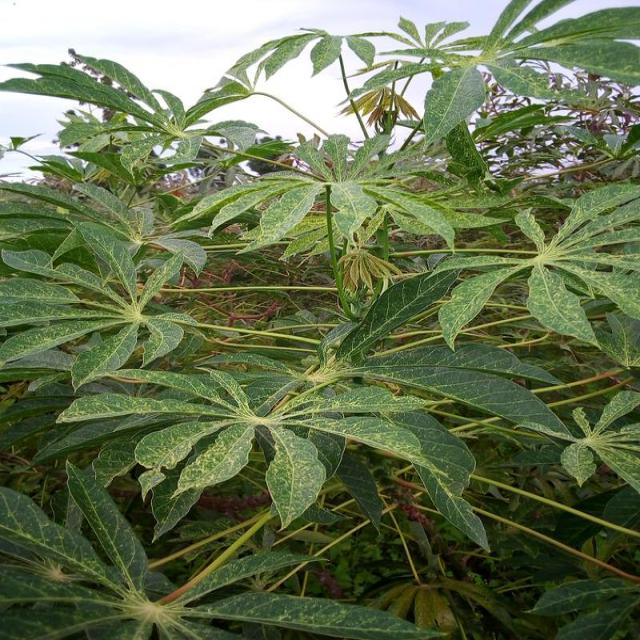cassava leaf: (1, 1, 638, 636), (264, 424, 326, 531), (422, 63, 486, 147)
